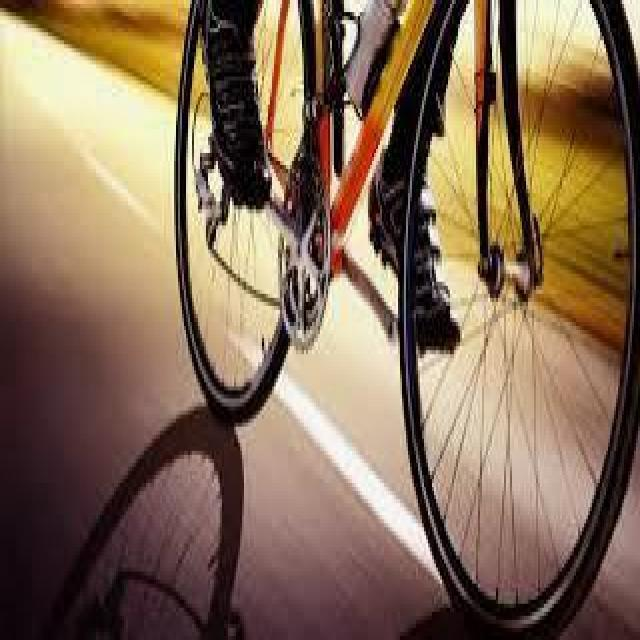bicycle: (163, 1, 640, 617)
